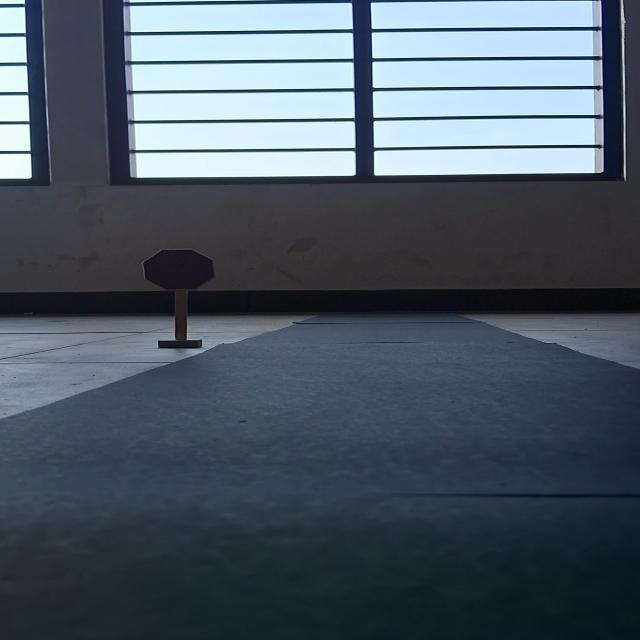Stop: (142, 248, 217, 292)
